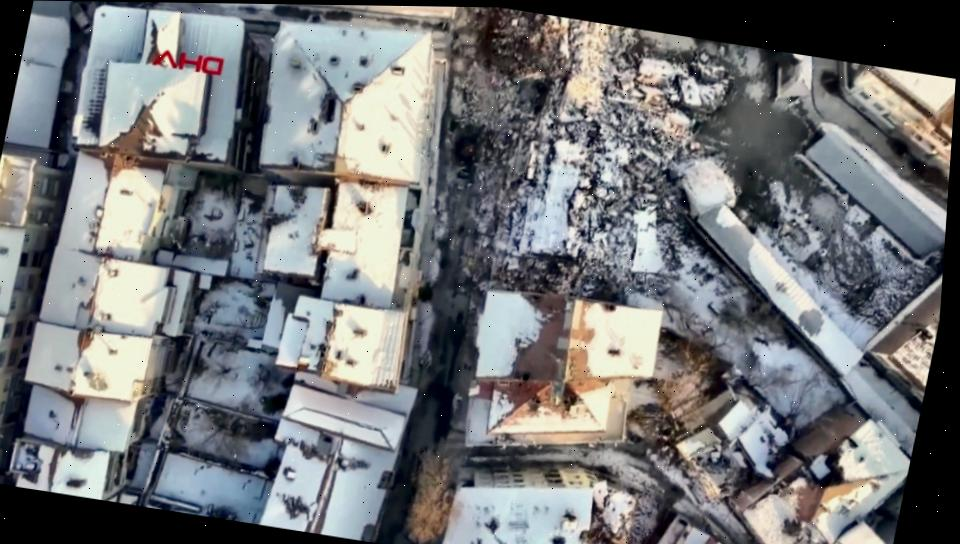kapali: (435, 7, 537, 256)
